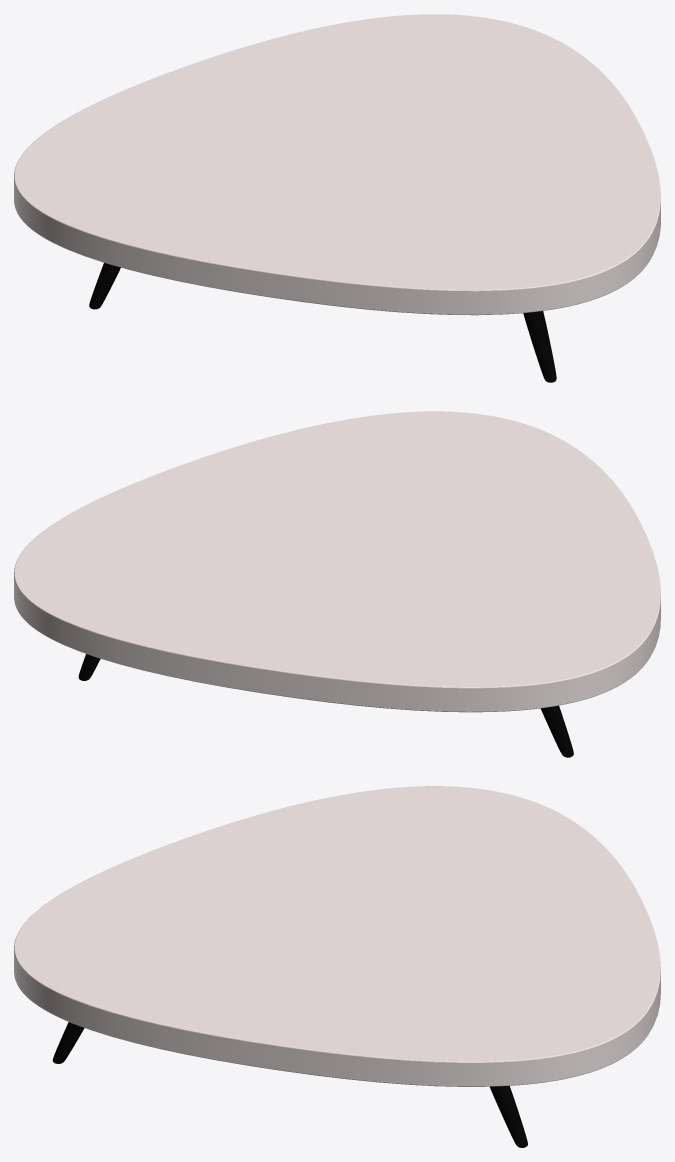
Rendered from mesasala.obj.
The picture shows the model from 3 angles, top to bottom: view 1: azimuth 30°, elevation 25°; view 2: azimuth 150°, elevation 25°; view 3: azimuth 270°, elevation 25°; orthographic projection.
Parts seen in each view (by area): view 1: polySurface78; view 2: polySurface78; view 3: polySurface78.
Boxes of the visible parts, x1,y1,x2,y2 form: polySurface78: [14, 14, 660, 382]; polySurface78: [14, 411, 660, 757]; polySurface78: [14, 786, 660, 1147].
Bounding box in the file's own units: 4.6 × 0.9091 × 4.55.
